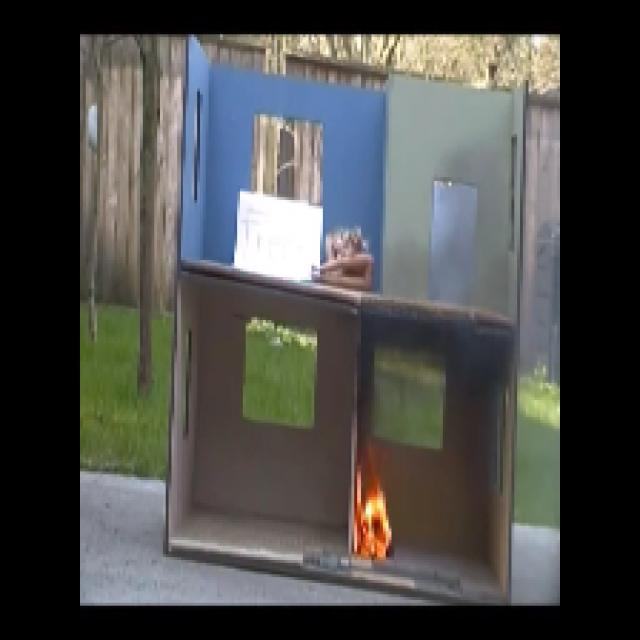fire: (350, 480, 396, 572)
